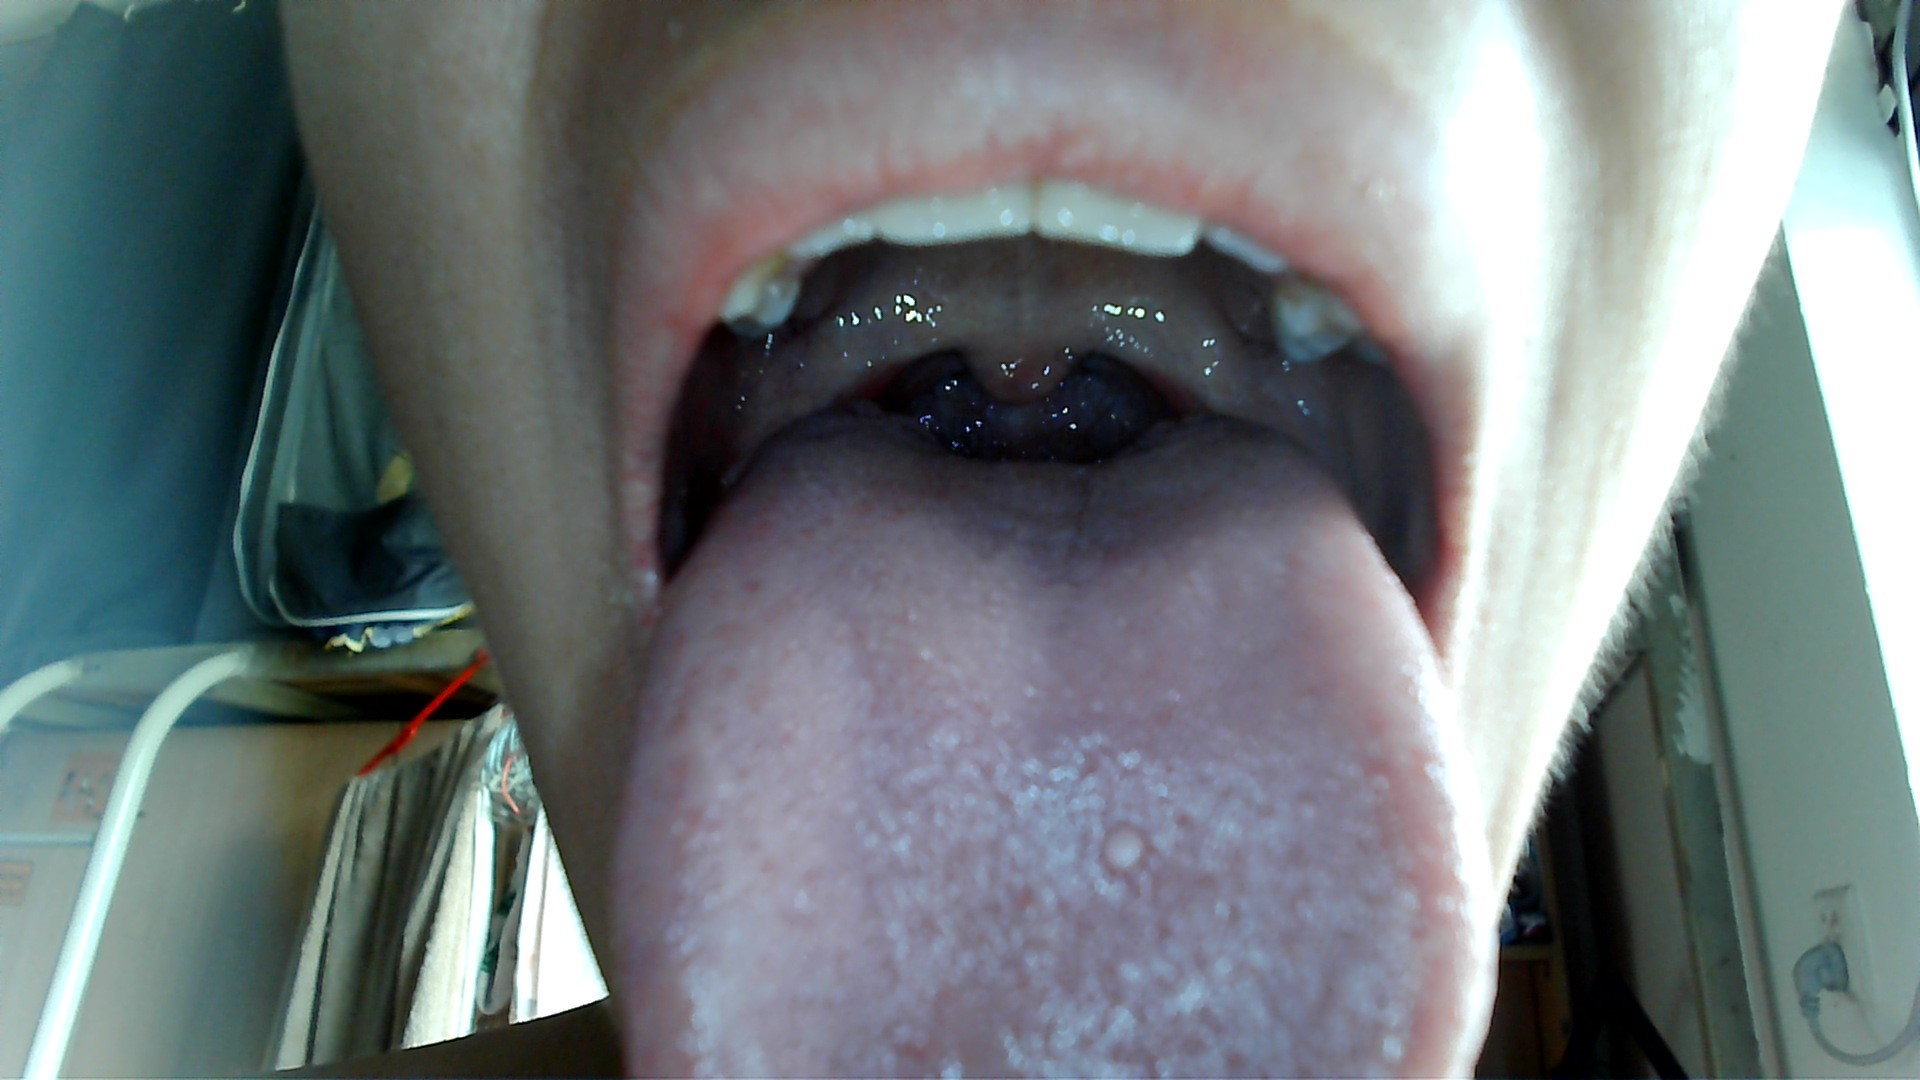throat: (1134, 313, 1238, 419), (810, 316, 922, 411)
